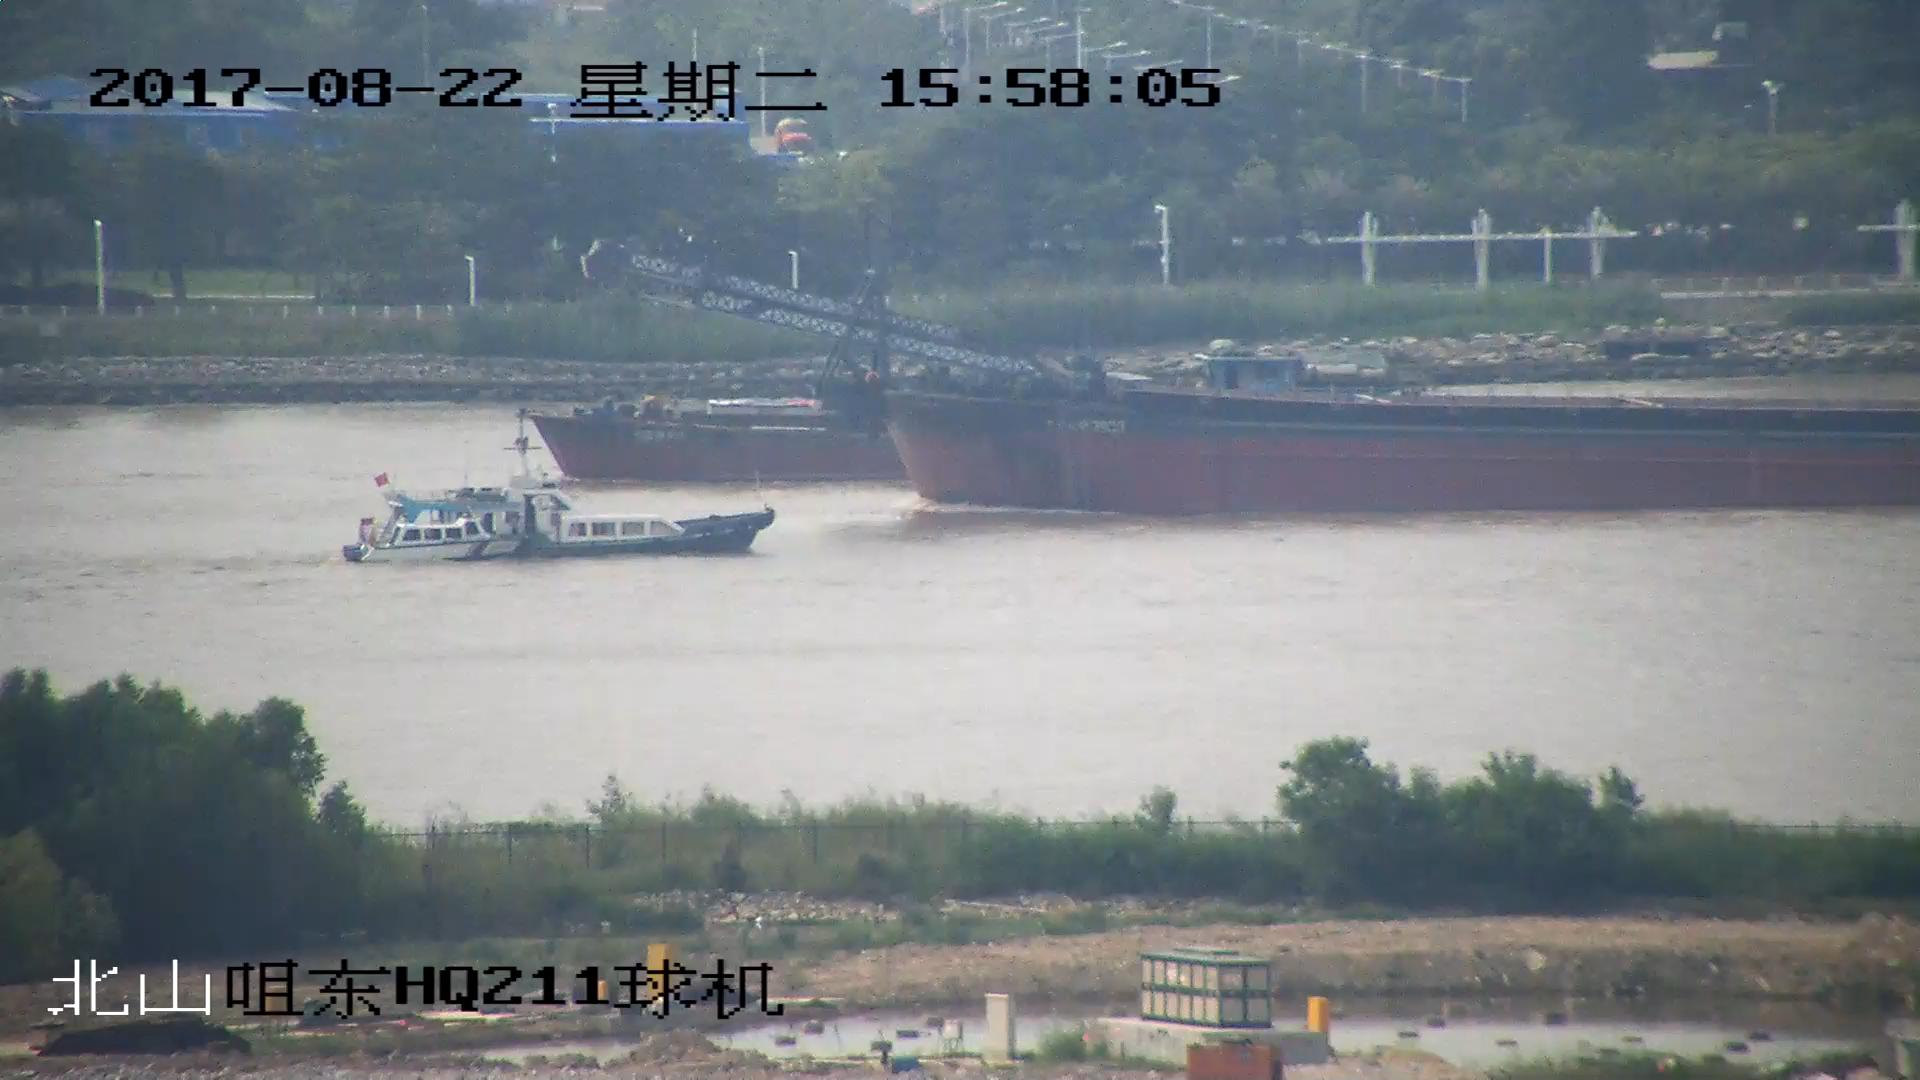bulk cargo carrier: (591, 250, 1920, 514), (514, 391, 904, 478)
fishing boat: (336, 471, 772, 565)
